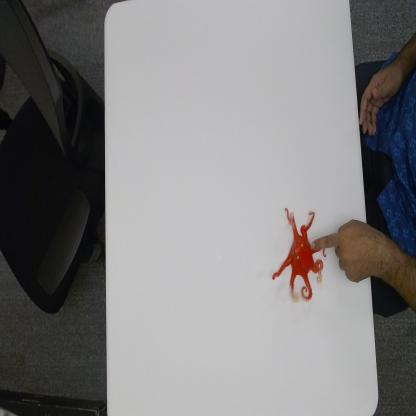Octopus: (272, 204, 328, 304), (311, 217, 388, 283)
